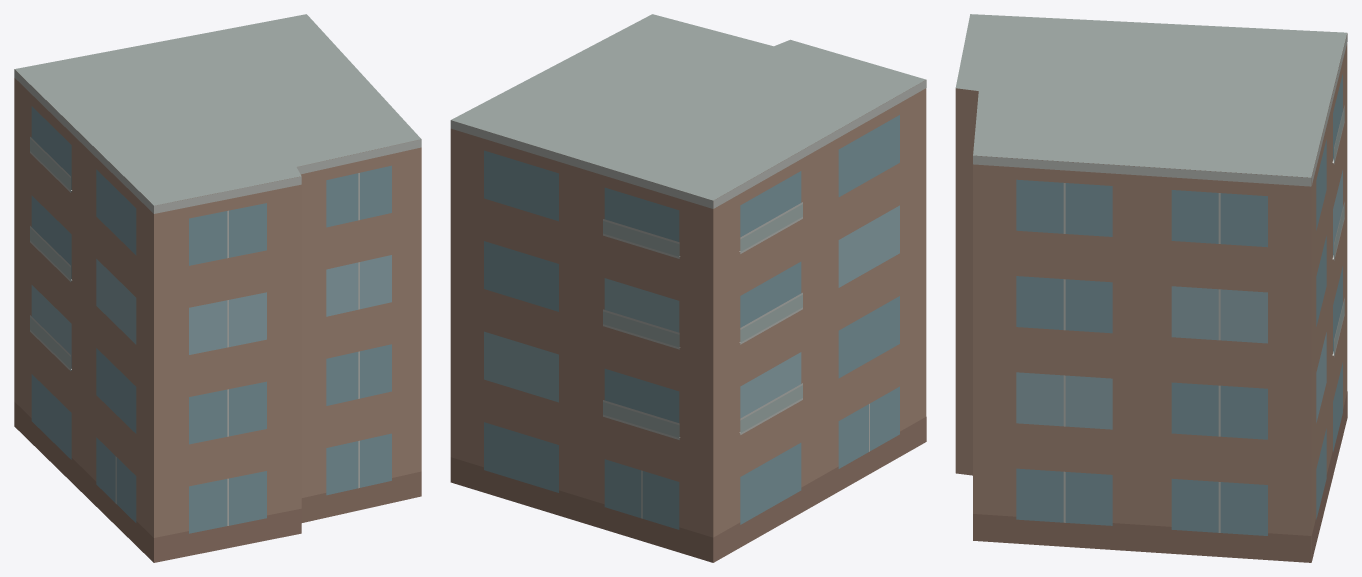
The model's file is survey-upis-33022115.glb.
3 views of the same model, side by side, from view 1: azimuth 30°, elevation 25°; view 2: azimuth 150°, elevation 25°; view 3: azimuth 270°, elevation 25° (orthographic). The views are drawn at different scales.
Parts seen in each view (by area): view 1: survey-upis-33022115.tmp; view 2: survey-upis-33022115.tmp; view 3: survey-upis-33022115.tmp.
Part boxes in pixels (bbox=[...]): survey-upis-33022115.tmp: bbox=[14, 14, 421, 562]; survey-upis-33022115.tmp: bbox=[450, 14, 926, 562]; survey-upis-33022115.tmp: bbox=[955, 14, 1347, 562].
Bounding box in the file's own units: 9.58 × 10.5 × 9.69.
